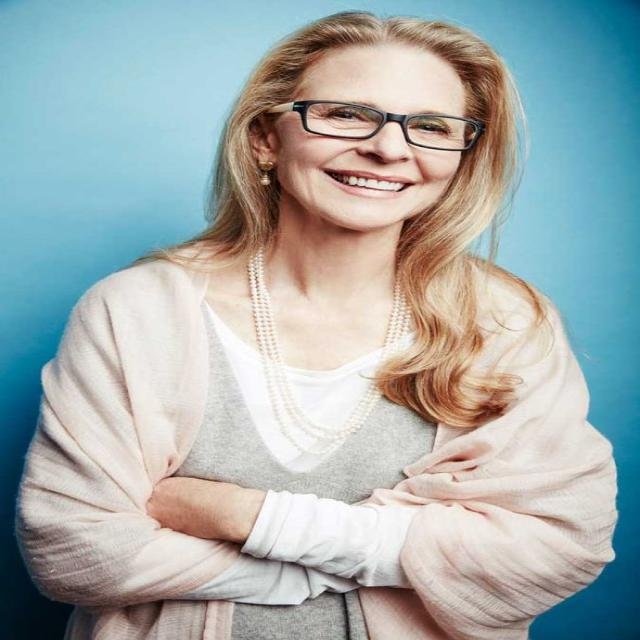human: (1, 7, 638, 640)
